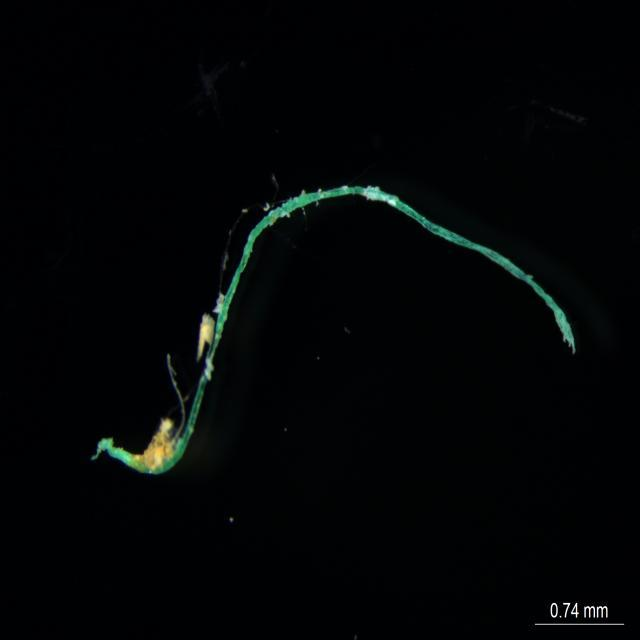fibers: (37, 131, 579, 491)
